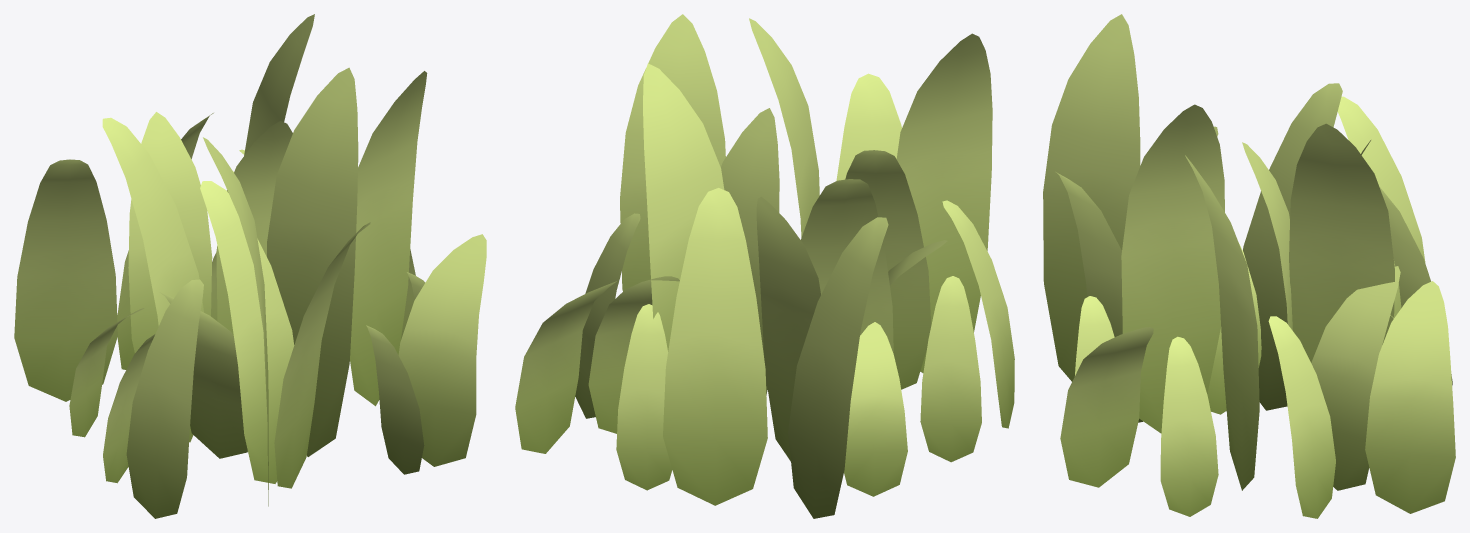
Rendered from Grass.fbx.
3 views of the same model, side by side, from view 1: azimuth 30°, elevation 25°; view 2: azimuth 150°, elevation 25°; view 3: azimuth 270°, elevation 25° (orthographic). The views are drawn at different scales.
Visible parts, largest first — view 1: Grass; view 2: Grass; view 3: Grass.
Part boxes in pixels (x1,y1,x2,y2): Grass: [14, 14, 486, 518]; Grass: [515, 14, 1014, 518]; Grass: [1043, 14, 1455, 518].
Bounding box in the file's own units: 1.97 × 1.97 × 1.99.
